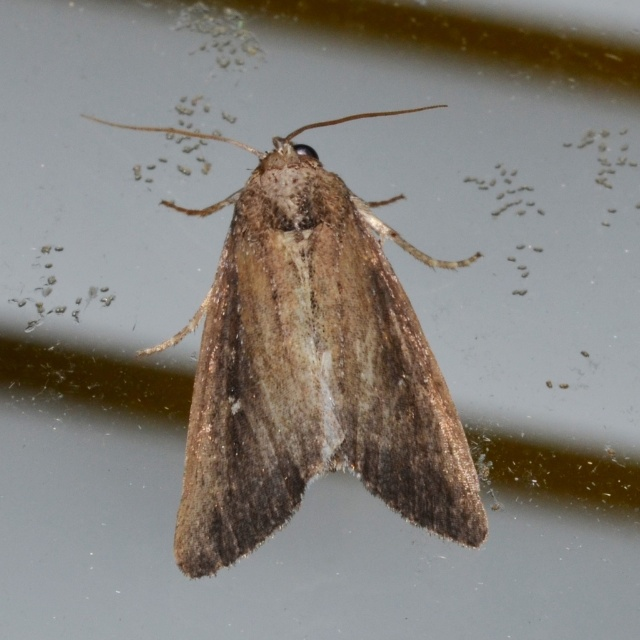Moths and butterflies: (81, 105, 489, 587)
